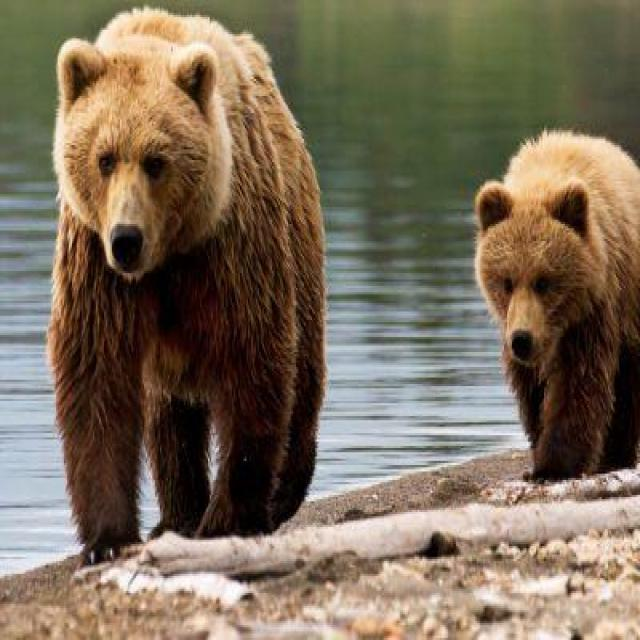Bear: (45, 9, 328, 567), (475, 130, 640, 484)
